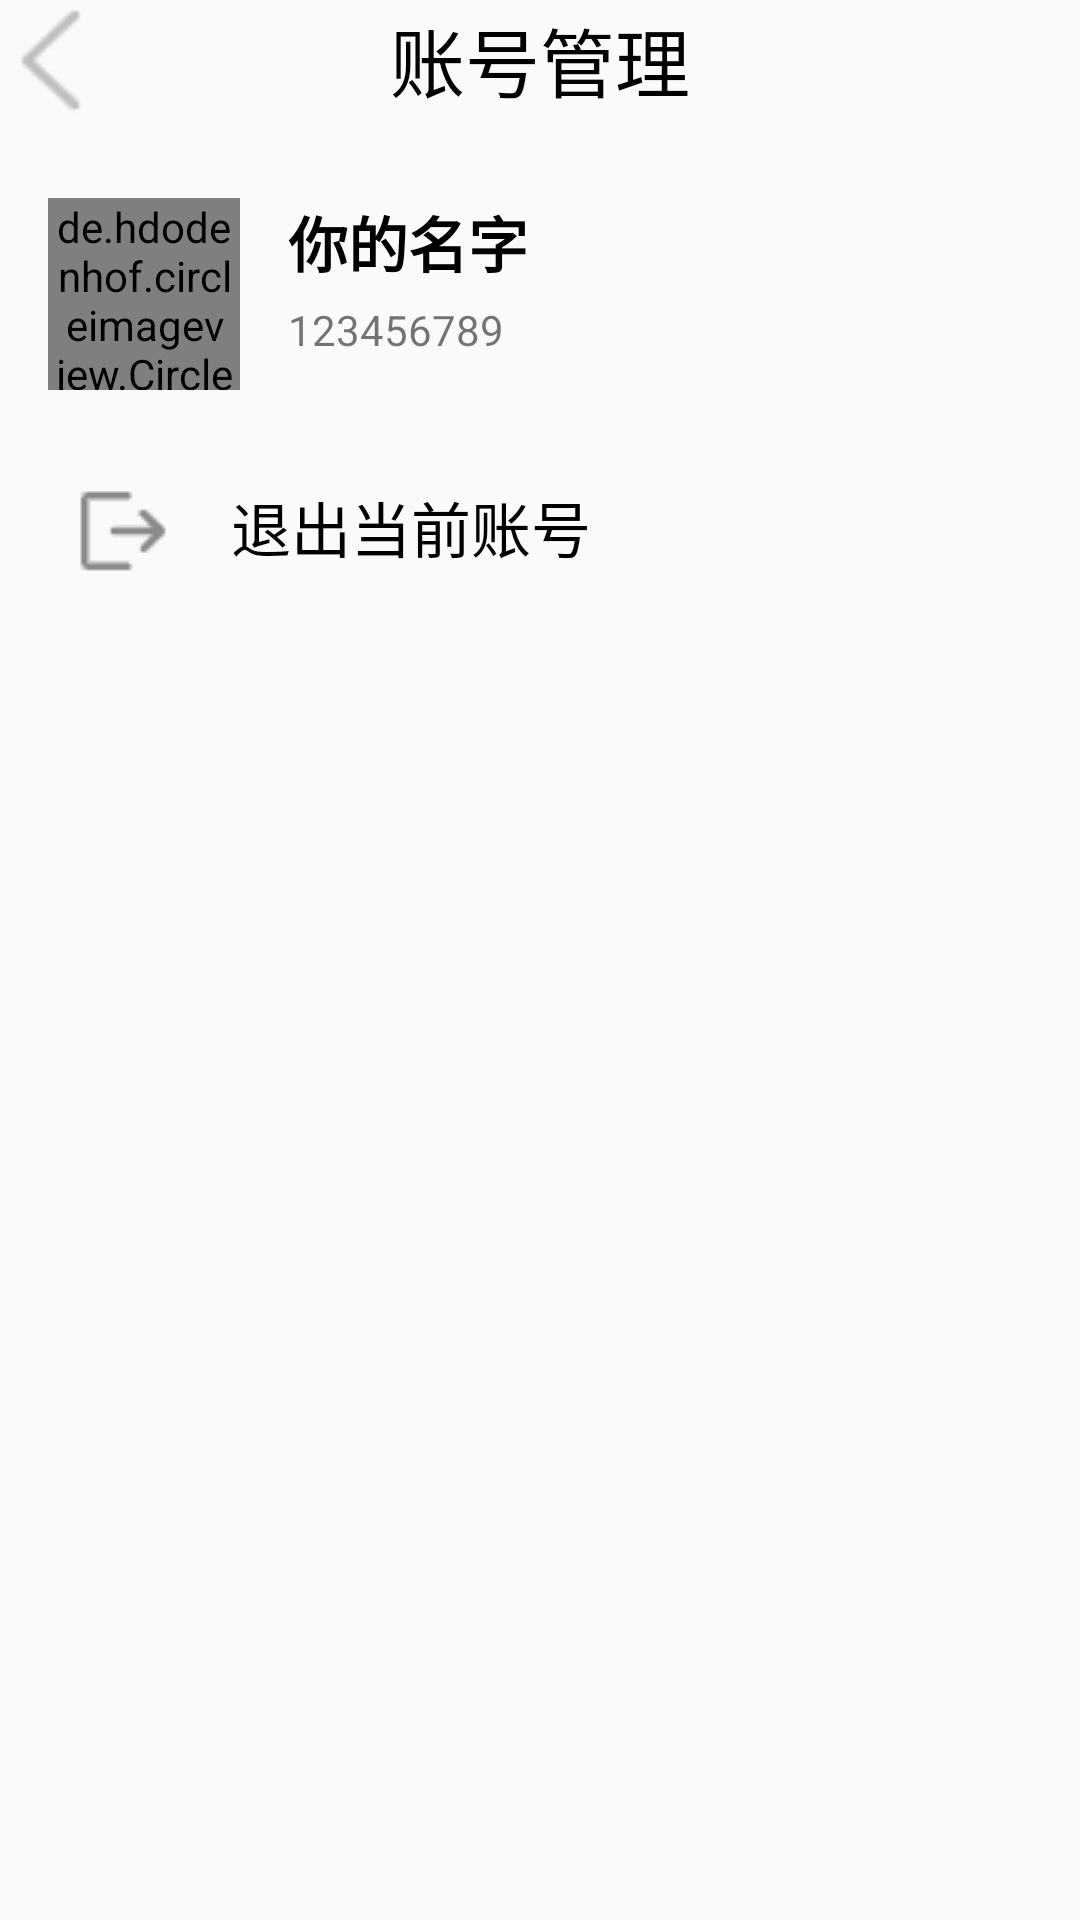

Screen size 1080w x 1920h. Icon name, then its center in pixels as (x=x, y=y):
back: (x=50, y=60)
